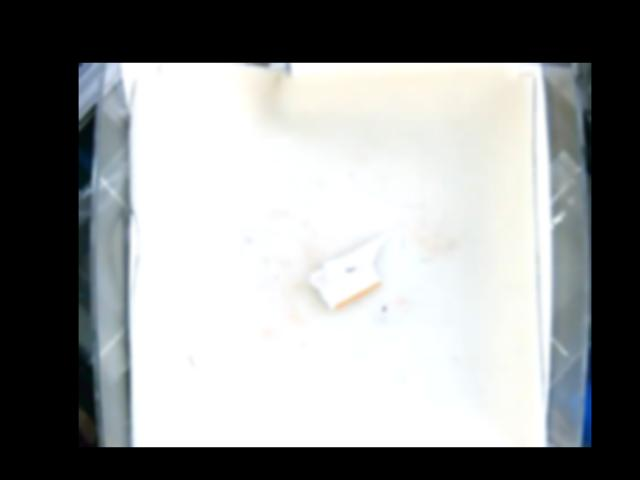China: (310, 229, 393, 309)
